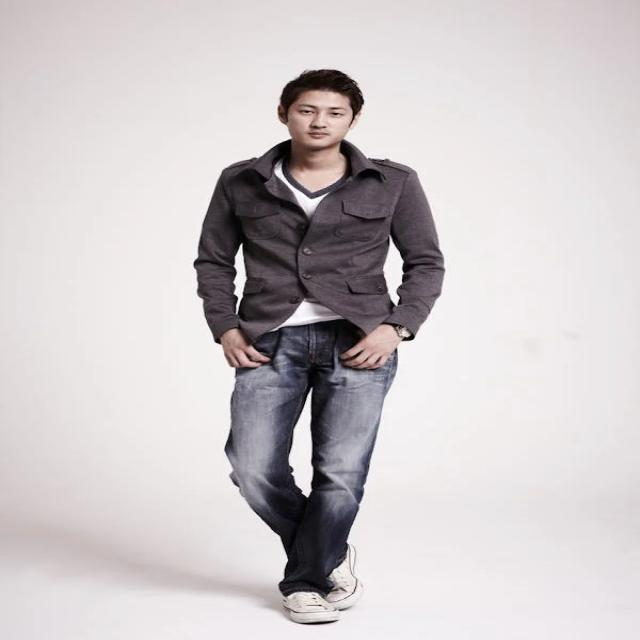Real human 2: (169, 54, 502, 640)
